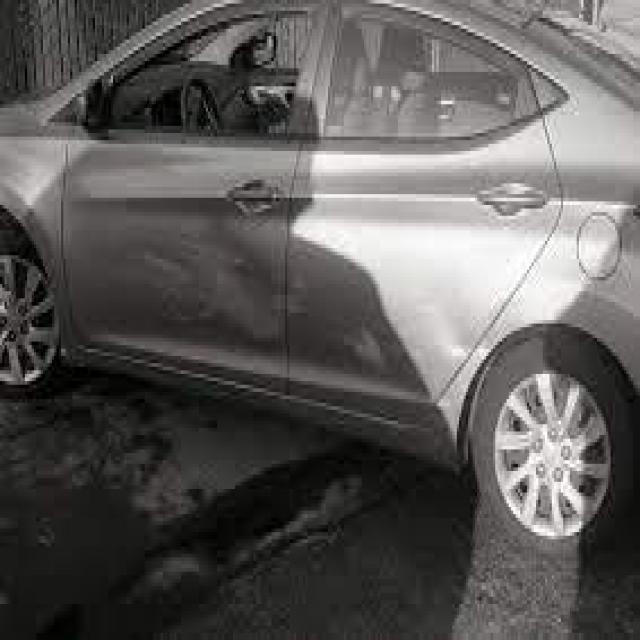damaged: (147, 212, 283, 342)
